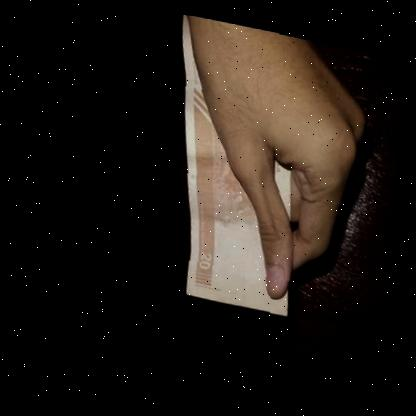twenty-back-vef: (146, 9, 315, 314)
